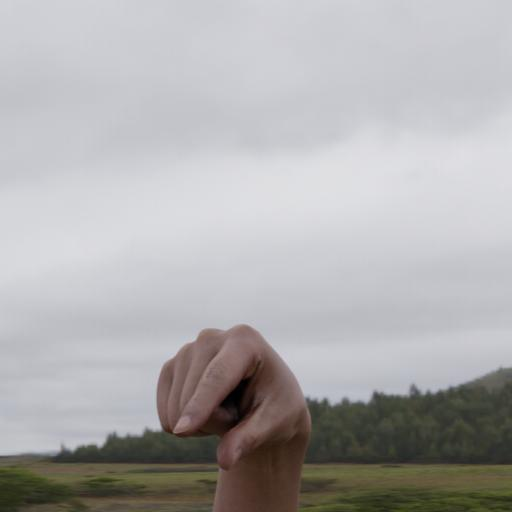Q: (144, 318, 328, 512)
